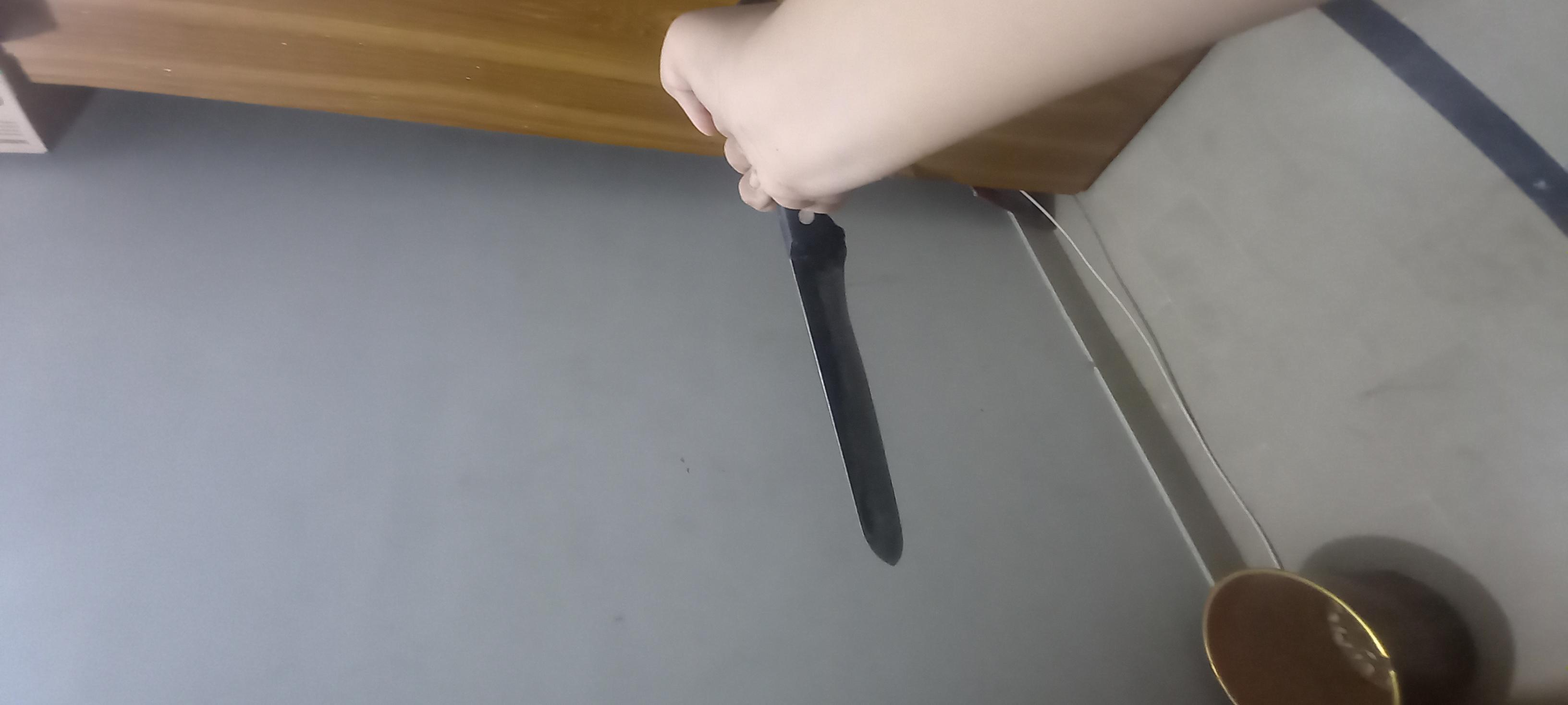knives: (262, 308, 1216, 430)
